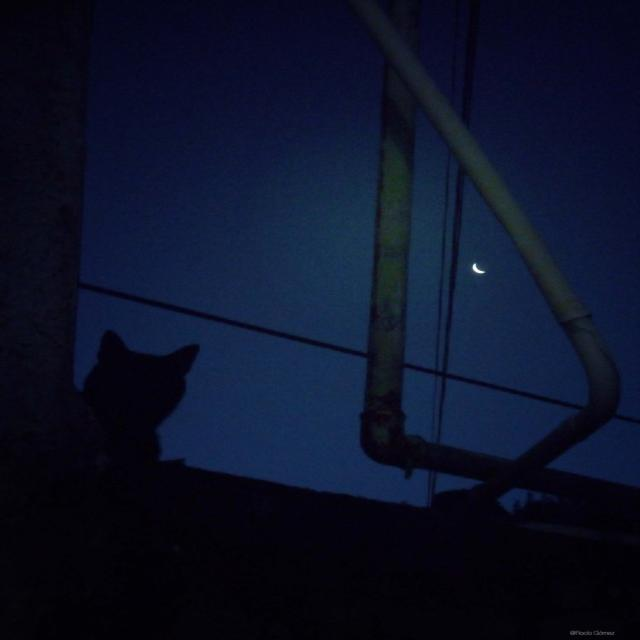Cat: (73, 321, 223, 472)
